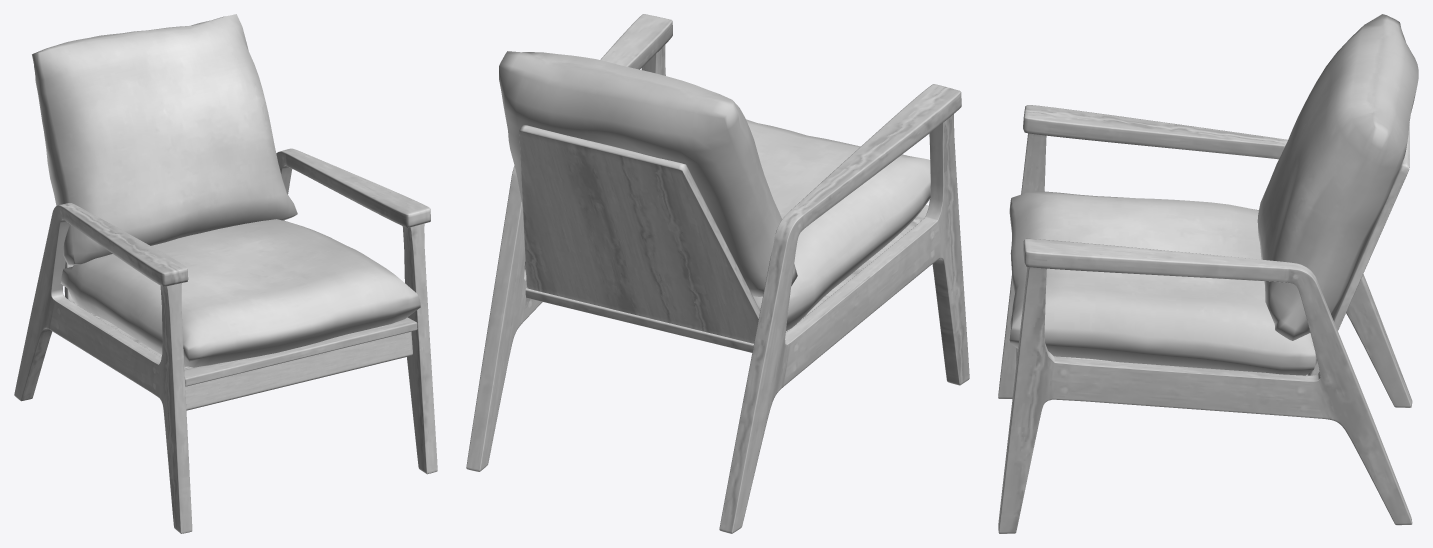
The model's file is koltuk.glb.
3 views of the same model, side by side, from view 1: azimuth 30°, elevation 25°; view 2: azimuth 150°, elevation 25°; view 3: azimuth 270°, elevation 25° (orthographic). The views are drawn at different scales.
Parts seen in each view (by area): view 1: modern_arm_chair_01; view 2: modern_arm_chair_01; view 3: modern_arm_chair_01.
Boxes of the visible parts, left/top/right/bottom form: modern_arm_chair_01: left=14, top=14, right=437, bottom=533; modern_arm_chair_01: left=466, top=14, right=969, bottom=533; modern_arm_chair_01: left=998, top=14, right=1418, bottom=533.
Size of the model in its own units: 0.8203 by 1.02 by 0.9865.
2 materials, 2 textured.
